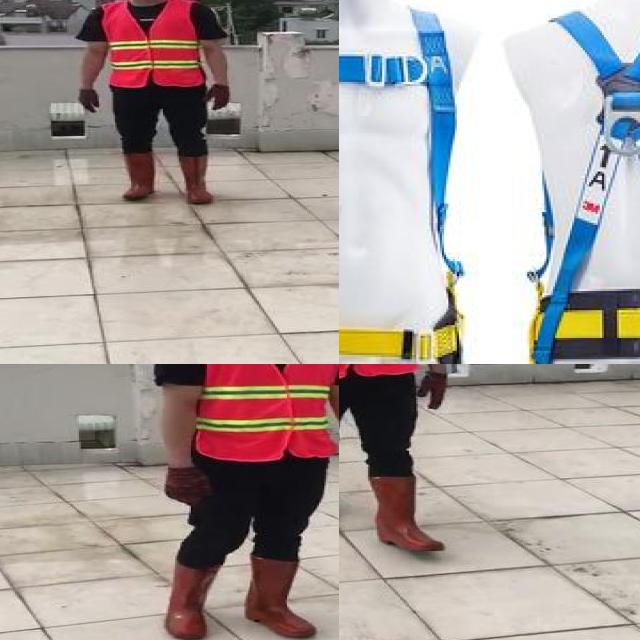Harness: (339, 0, 463, 364), (525, 0, 640, 364)
boots: (245, 553, 318, 638), (366, 474, 443, 552), (166, 557, 214, 640), (176, 153, 218, 203), (119, 151, 158, 200)
hand_glove: (161, 466, 209, 505), (420, 371, 446, 408), (76, 86, 102, 116), (202, 84, 229, 111)
person: (145, 364, 339, 640), (65, 0, 241, 207), (339, 364, 466, 571)
vest: (193, 364, 335, 460), (103, 2, 202, 89)
